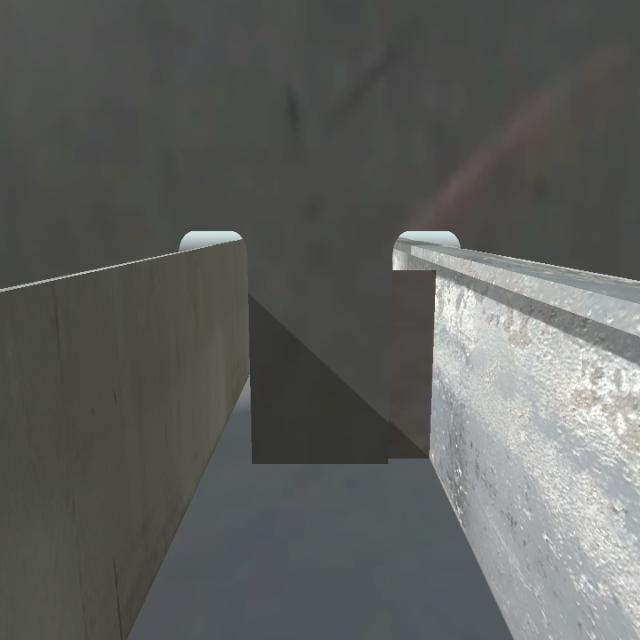fillet_yong_jeop_jang: (241, 446, 436, 467)
longi_yong_jeop_jang: (428, 260, 443, 462)
plate_behind: (389, 274, 431, 460)
